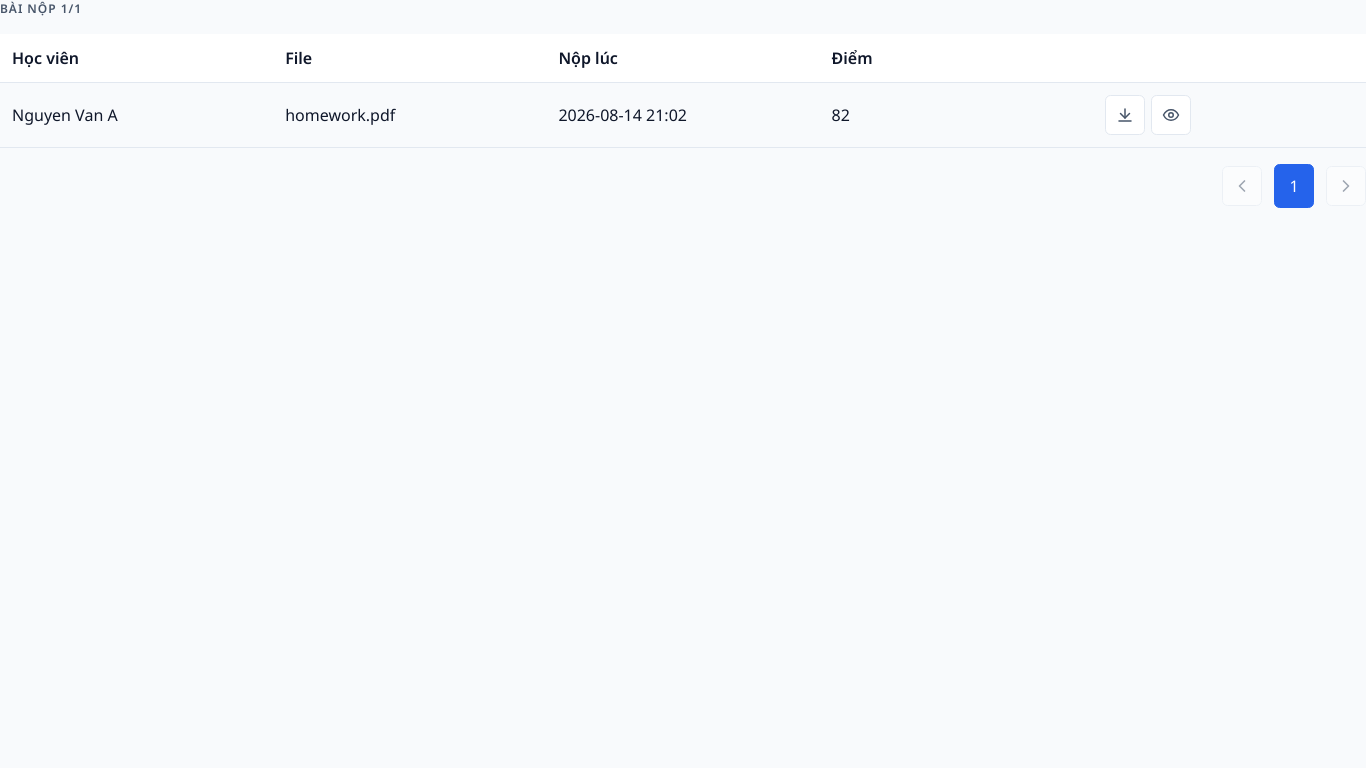
Scenario: LatestSubmissions › opens the grade result dialog from a graded row
The image size is (1366, 768).
Click the button named "Xem kết quả" at (1171,115), box left=1151, top=95, right=1191, bottom=135
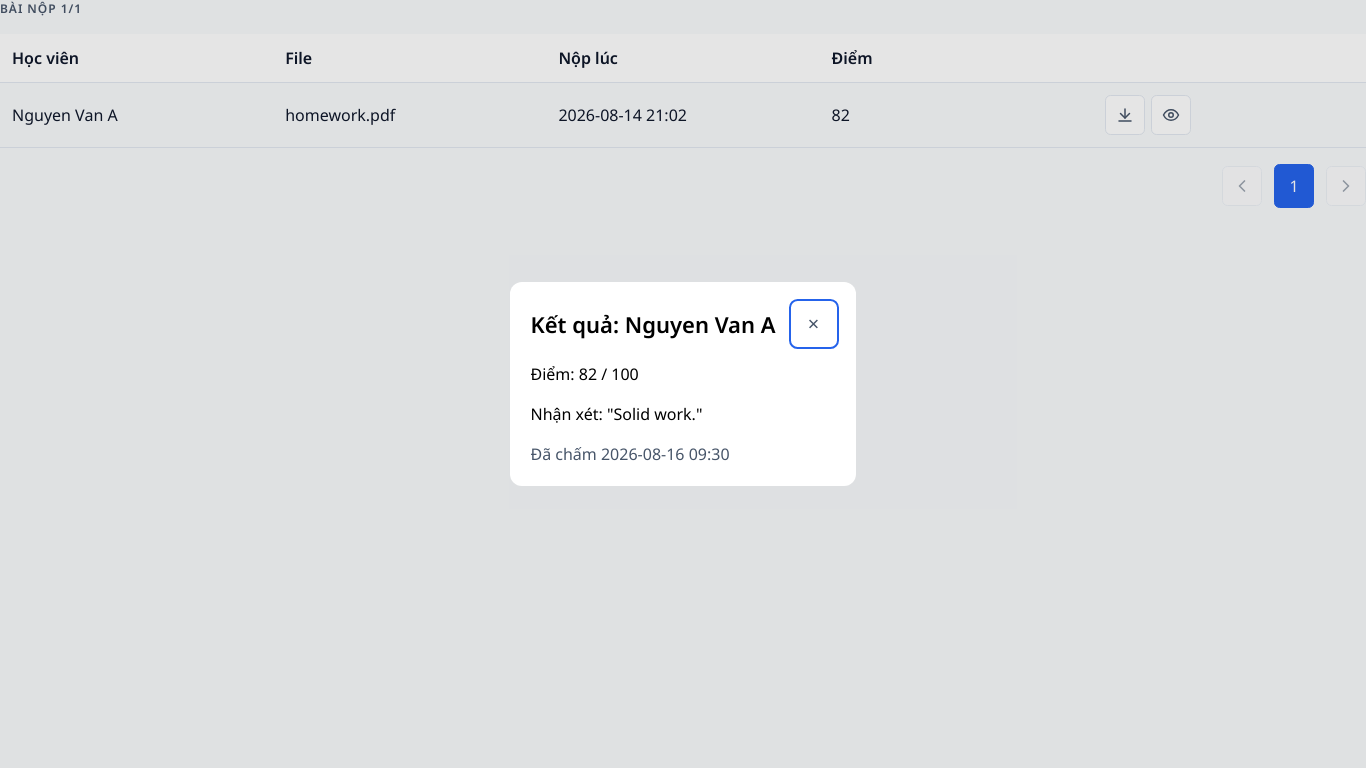
Expected: the text "Điểm: 82 / 100" is shown, left=530, top=363, right=639, bottom=385
Expected: the text "Nhận xét: \"Solid work.\"" is shown, left=530, top=403, right=702, bottom=425
